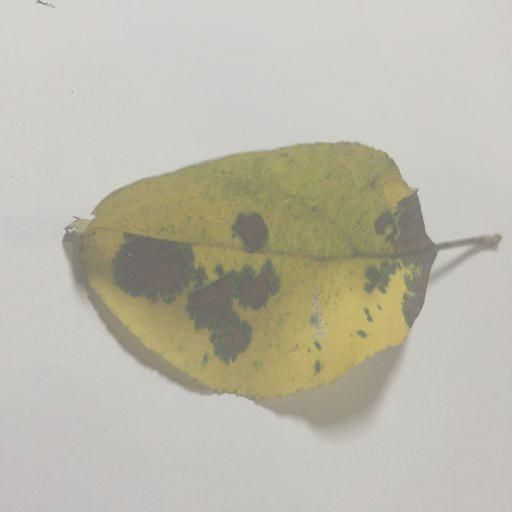Brown_Spot: (111, 239, 187, 289), (390, 203, 433, 252), (178, 292, 225, 322), (225, 280, 270, 307), (233, 222, 270, 248), (222, 320, 249, 353), (412, 263, 423, 321)
